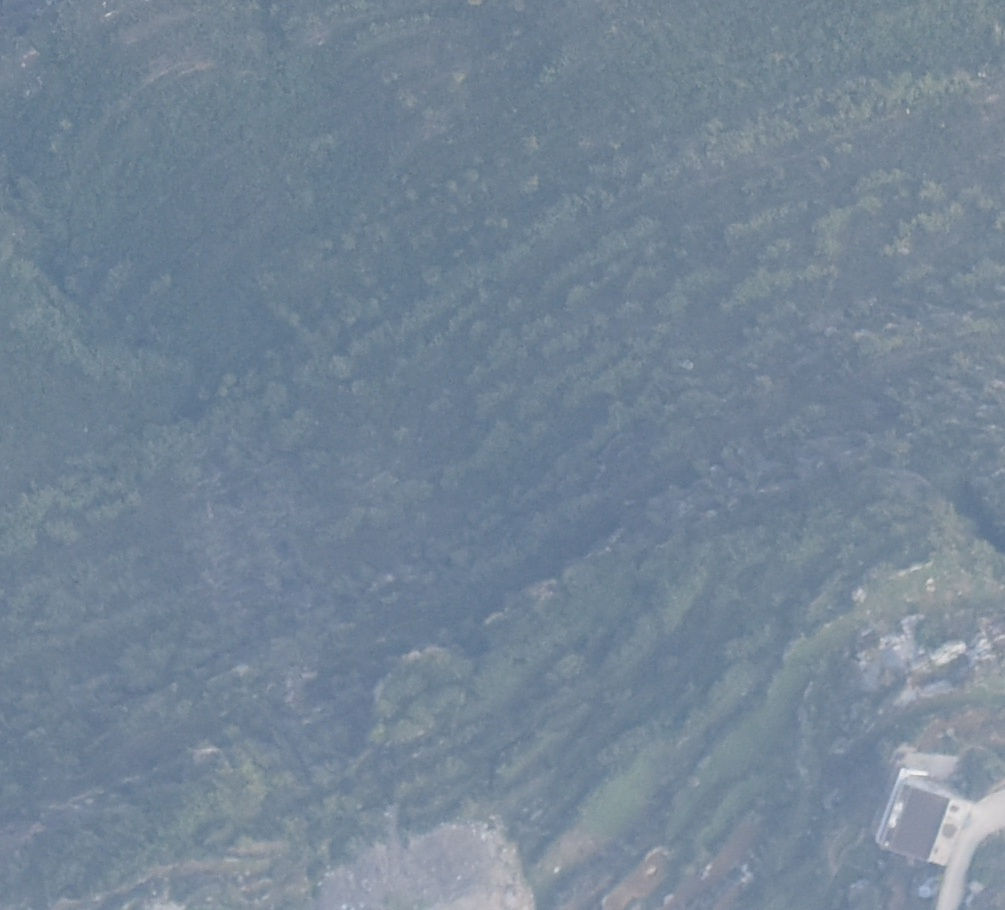building: (877, 769, 972, 867)
